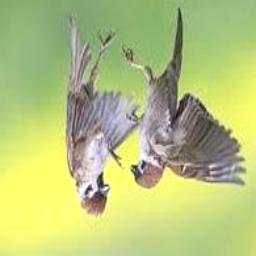Sparrow: (121, 8, 248, 189), (66, 14, 142, 218)
